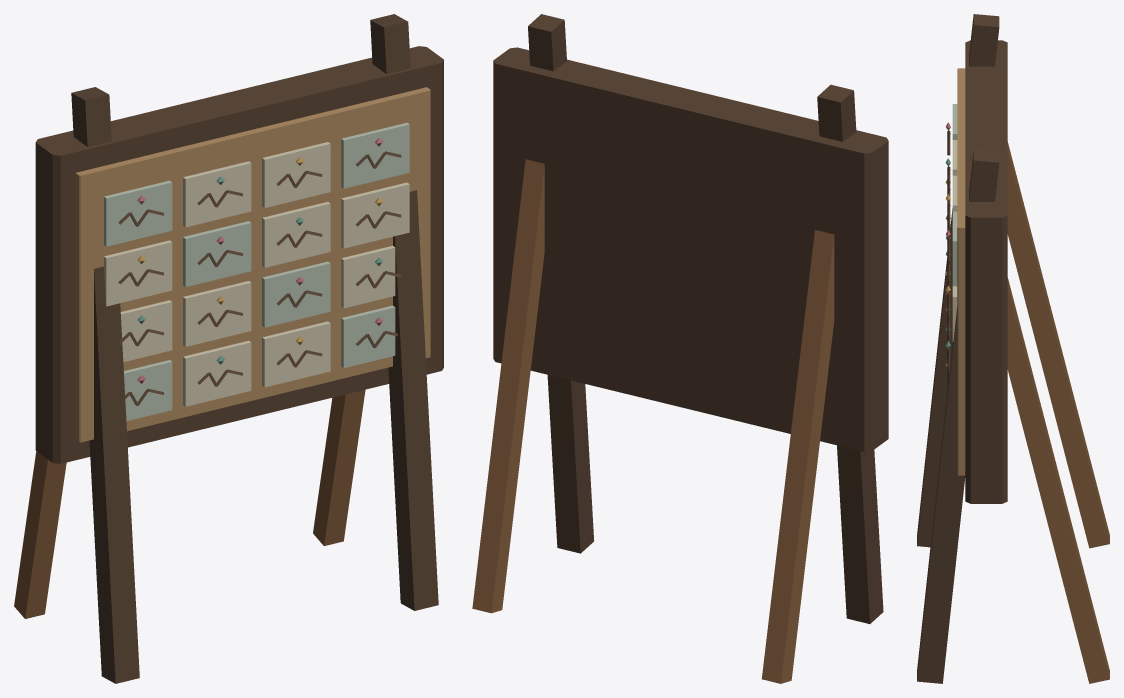
The model's file is decor_signature_board.glb.
The picture shows the model from 3 angles, left to right: view 1: azimuth 30°, elevation 25°; view 2: azimuth 150°, elevation 25°; view 3: azimuth 270°, elevation 25°; orthographic projection. The views are drawn at different scales.
Visible parts, largest first — view 1: geometry; view 2: geometry; view 3: geometry.
Part boxes in pixels (x1,y1,x2,y2): geometry: (14,14,443,683); geometry: (472,14,888,683); geometry: (917,14,1109,683).
Size of the model in its own units: 0.89 by 1.23 by 0.4093.
